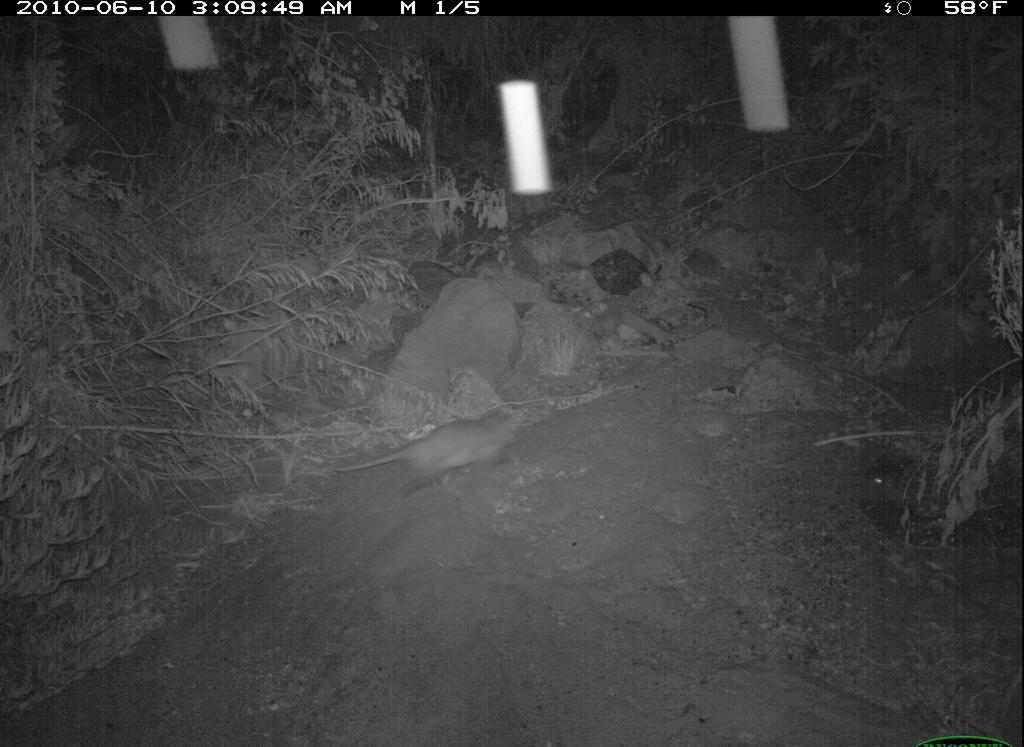opossum: (340, 401, 535, 497)
